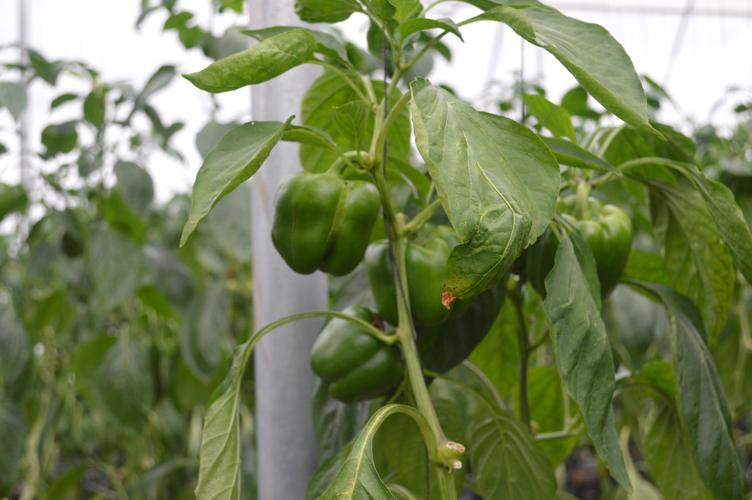BellPepper: (265, 167, 383, 285), (528, 194, 635, 301), (365, 226, 464, 325), (320, 319, 407, 406)
